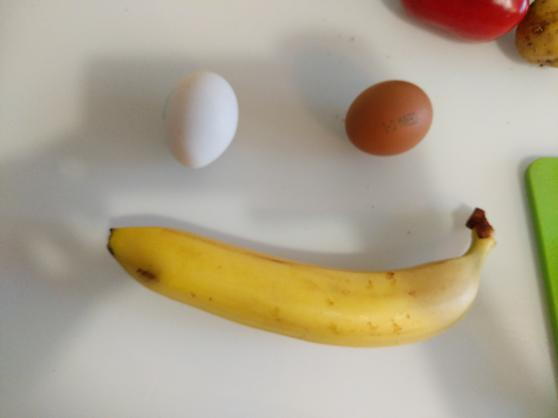banana: (100, 209, 498, 342)
egg: (165, 70, 239, 169), (345, 81, 435, 156)
